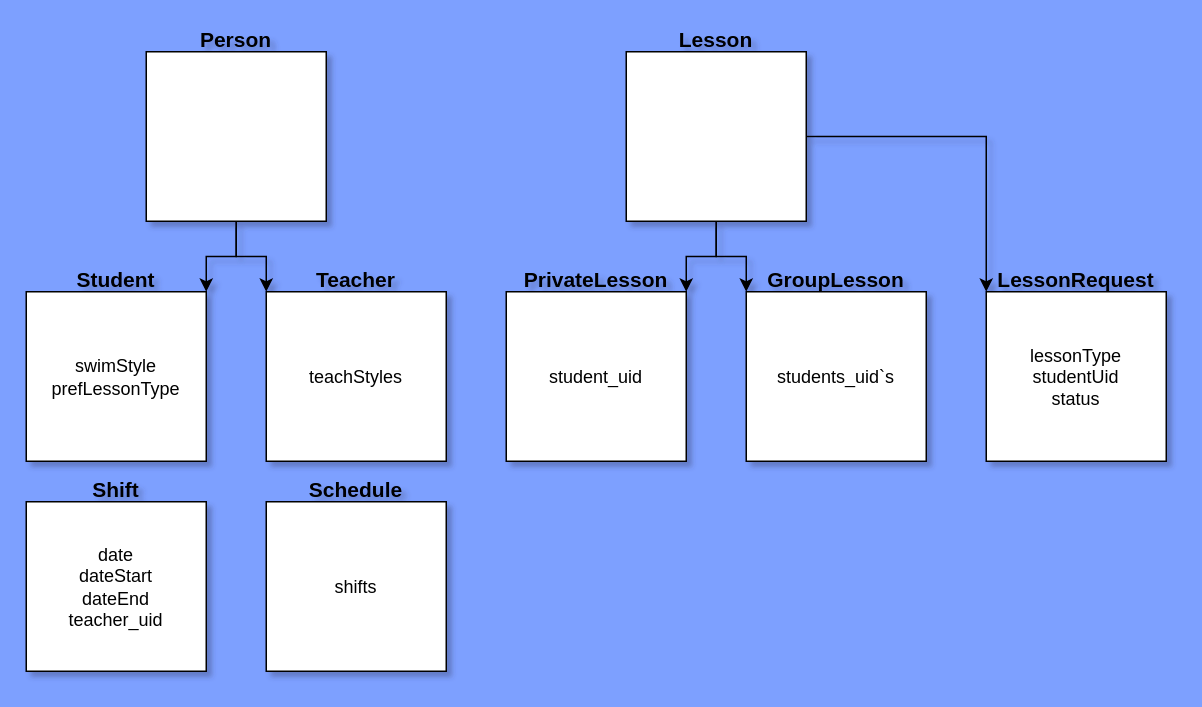
The diagram is 1202 pixels wide and 707 high, and some of its shapes have lost their labels. The box of each missing label's shape, as (x1, y1, x2, y2) in pixels:
date startTime endTime teacherUid: (625, 50, 806, 221)
uid name lastName: (145, 50, 326, 221)
